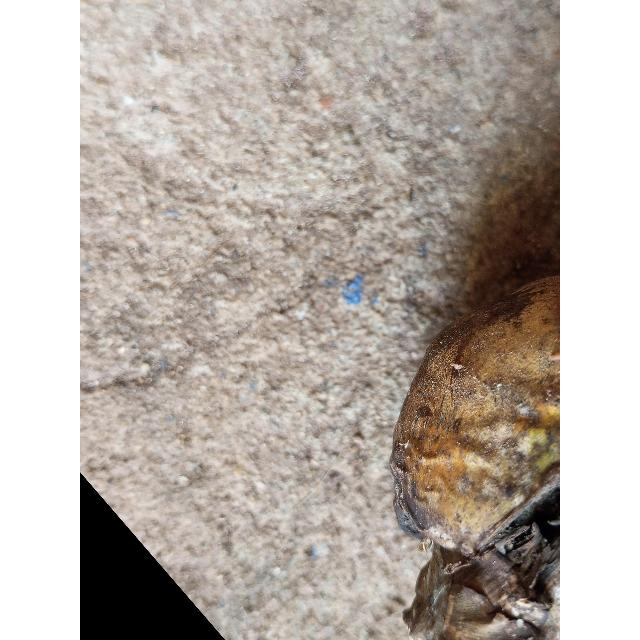damaged: (391, 276, 560, 640)
